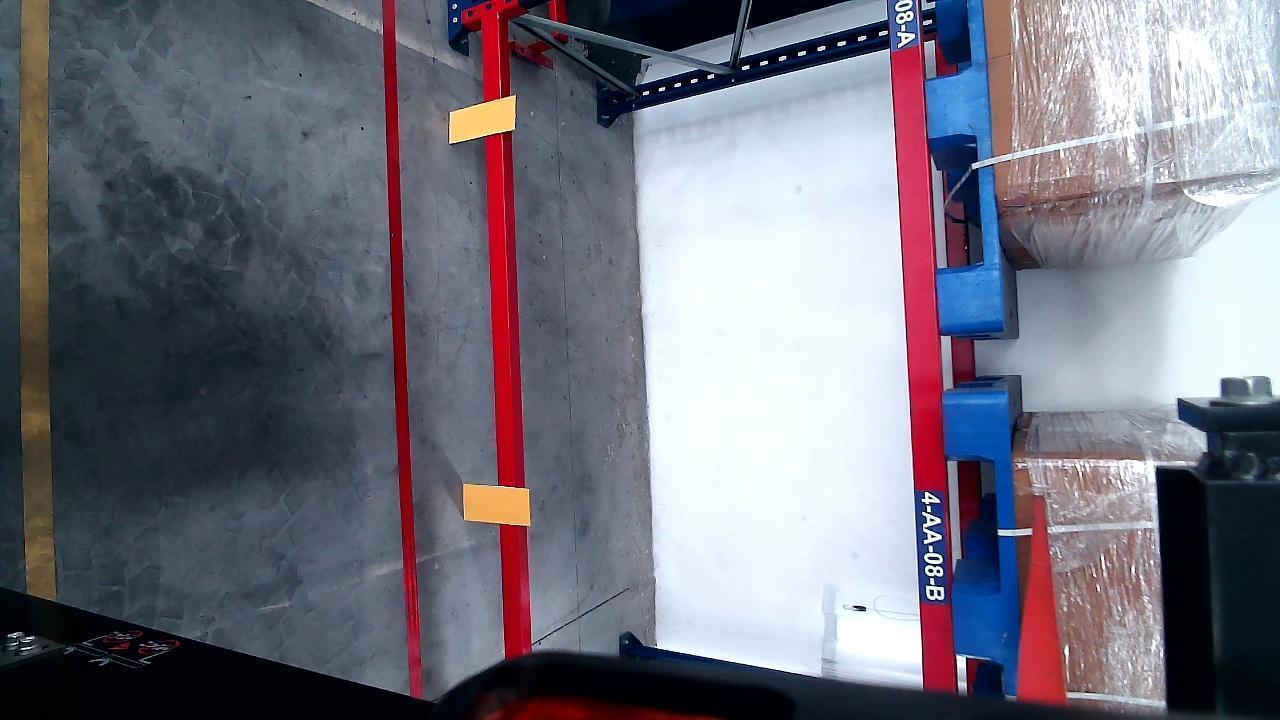red_line: (382, 5, 422, 696)
yellow_line: (18, 1, 55, 604)
